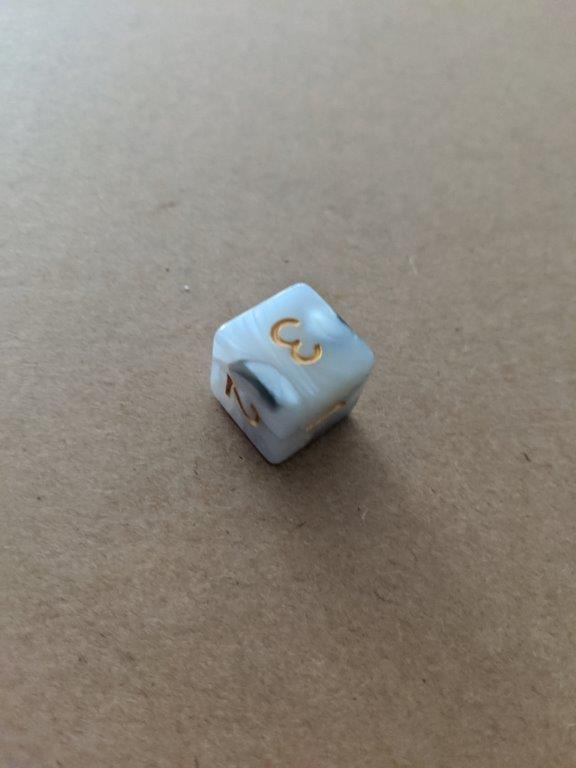d6-3: (208, 282, 374, 463)
